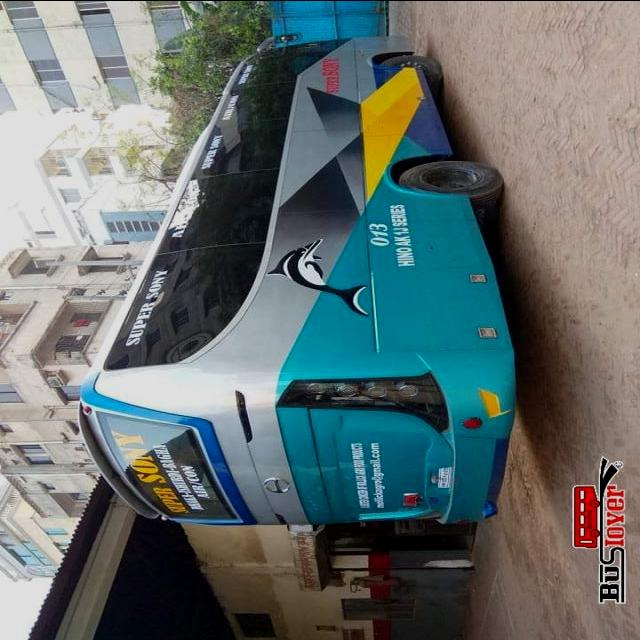bus: (75, 31, 521, 526)
